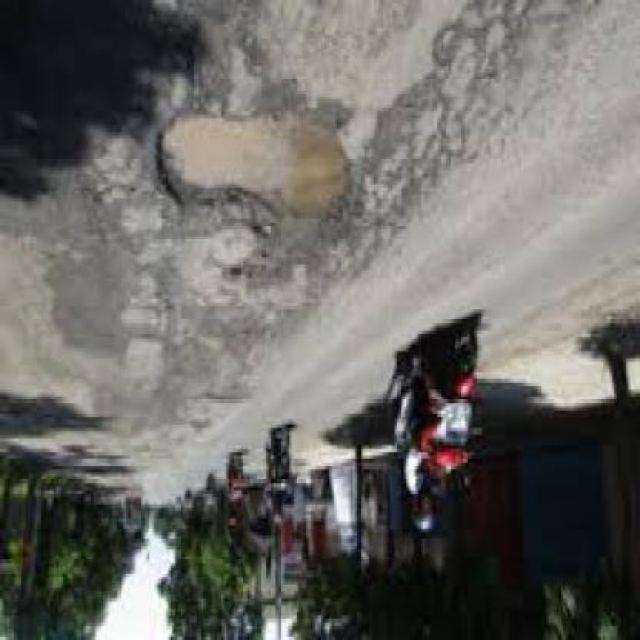pothole: (148, 97, 357, 240)
